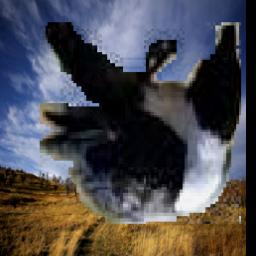Crow: (41, 22, 242, 224)
